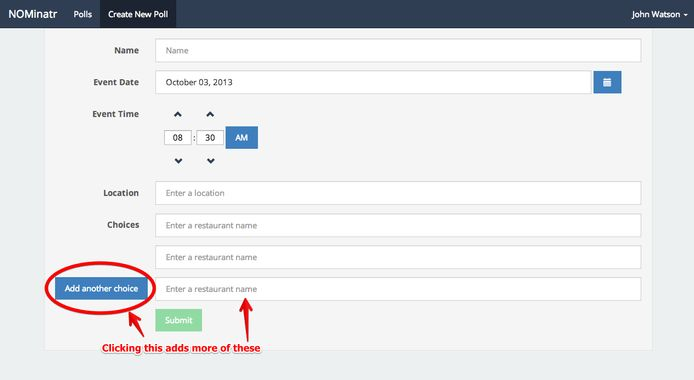_form_: (109, 1, 651, 354)
button: (54, 276, 149, 299), (154, 308, 206, 333)
field: (152, 211, 644, 239), (153, 243, 642, 271), (152, 37, 644, 64), (152, 179, 644, 206), (155, 276, 644, 302), (152, 69, 593, 95), (163, 129, 192, 146), (195, 130, 224, 146)
